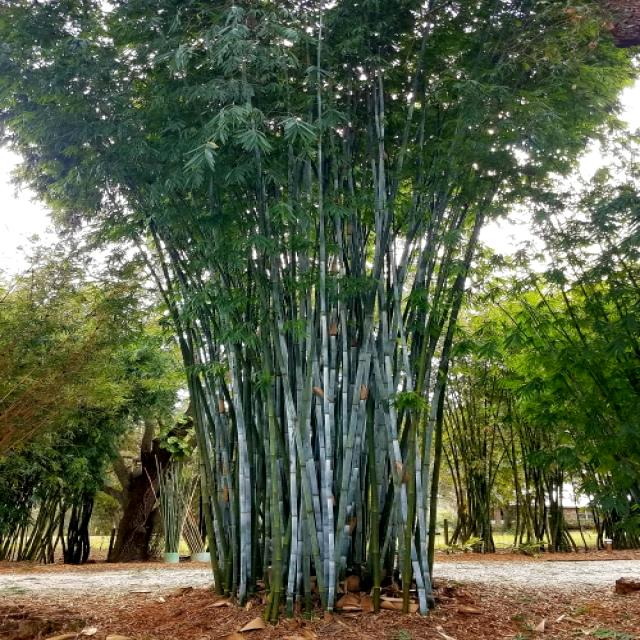Clumping: (105, 1, 535, 634)
